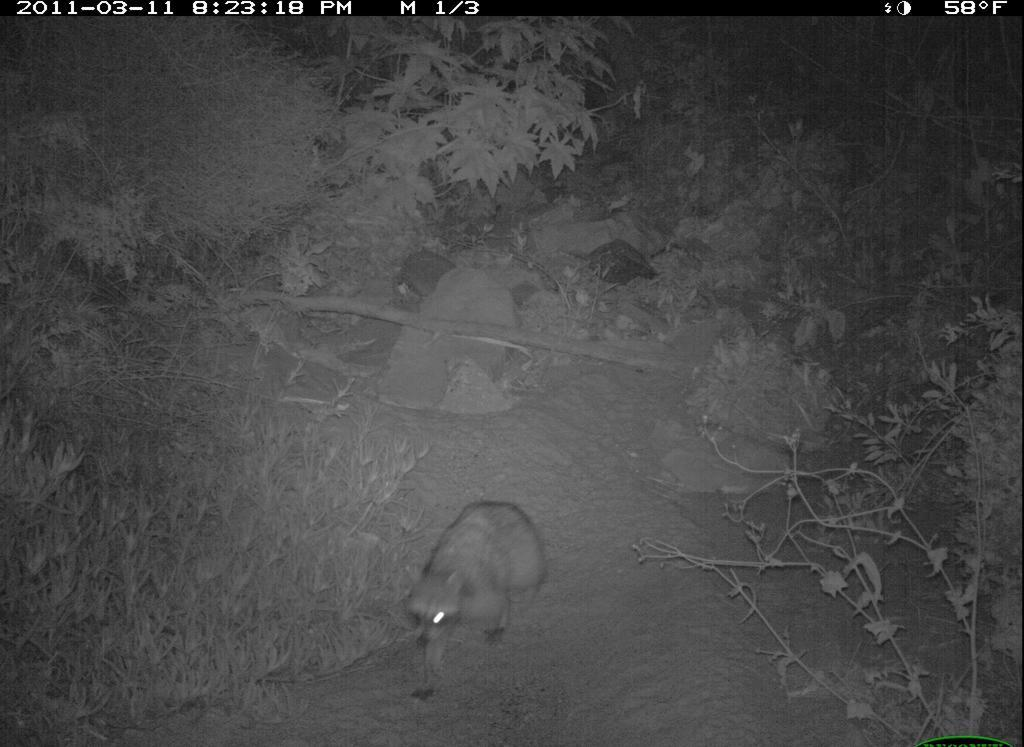raccoon: (391, 488, 555, 702)
